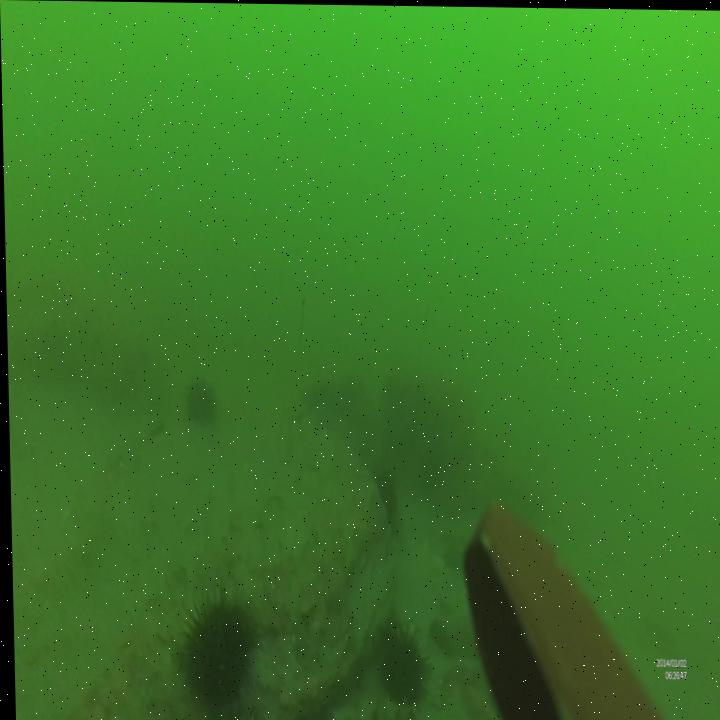echinus: (174, 588, 262, 718), (373, 620, 432, 708), (364, 463, 398, 526), (182, 379, 215, 435)
